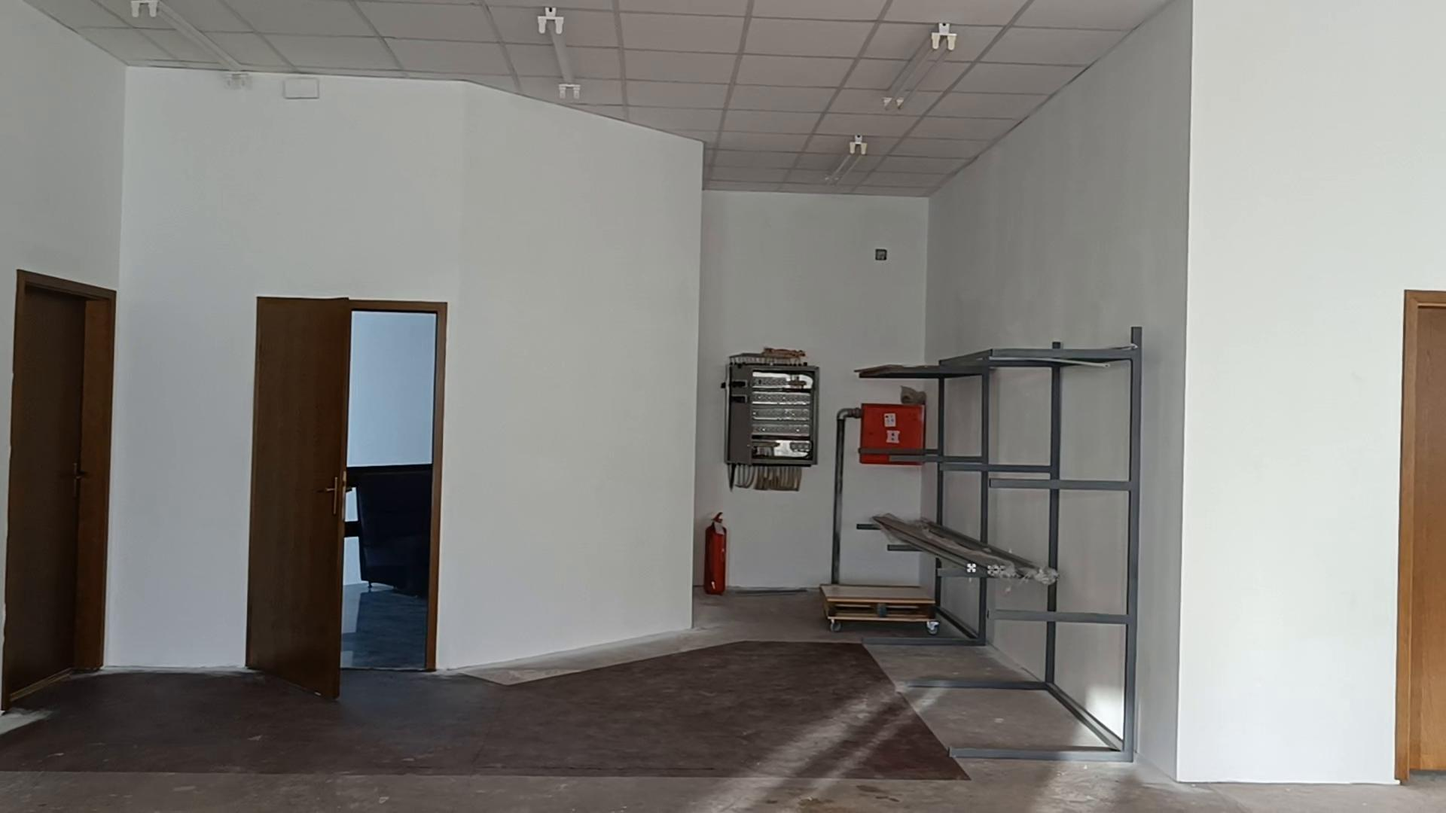ceiling: (26, 0, 1170, 195)
floor: (0, 592, 1445, 812)
wall: (0, 0, 1445, 783)
